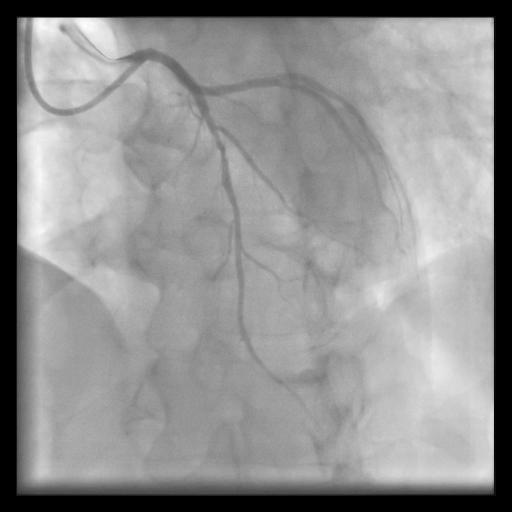Stenosis: (211, 132, 227, 183)
